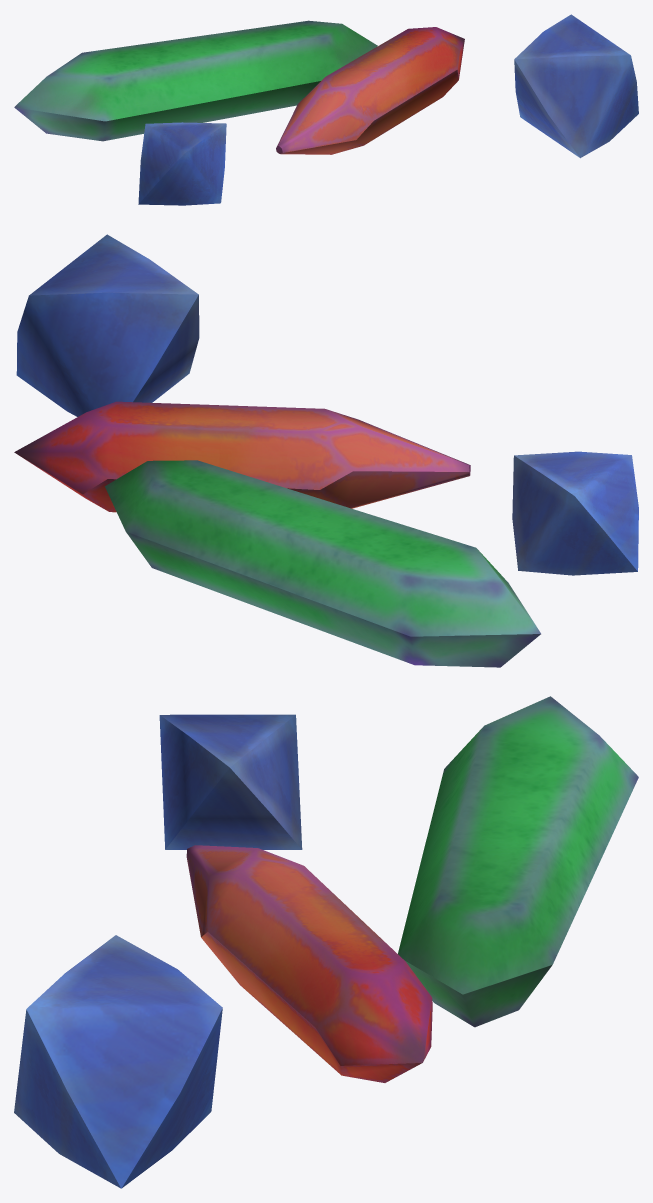
File: SM_Potion_Props_Loot_Gem_01_B.fbx
3 renders of one model, top to bottom at view 1: azimuth 30°, elevation 25°; view 2: azimuth 150°, elevation 25°; view 3: azimuth 270°, elevation 25°, orthographic. The views are drawn at different scales.
Visible parts, largest first — view 1: SM_Potion_Props_Loot_Gem_01_B_LOD0; view 2: SM_Potion_Props_Loot_Gem_01_B_LOD0; view 3: SM_Potion_Props_Loot_Gem_01_B_LOD0.
Part boxes in pixels (box(x1,y1,x2,y2)): SM_Potion_Props_Loot_Gem_01_B_LOD0: box(14, 14, 638, 205); SM_Potion_Props_Loot_Gem_01_B_LOD0: box(14, 234, 638, 667); SM_Potion_Props_Loot_Gem_01_B_LOD0: box(14, 696, 638, 1188).
Size of what is drawn, in the model's own units: 23.71 by 4.22 by 15.08.
